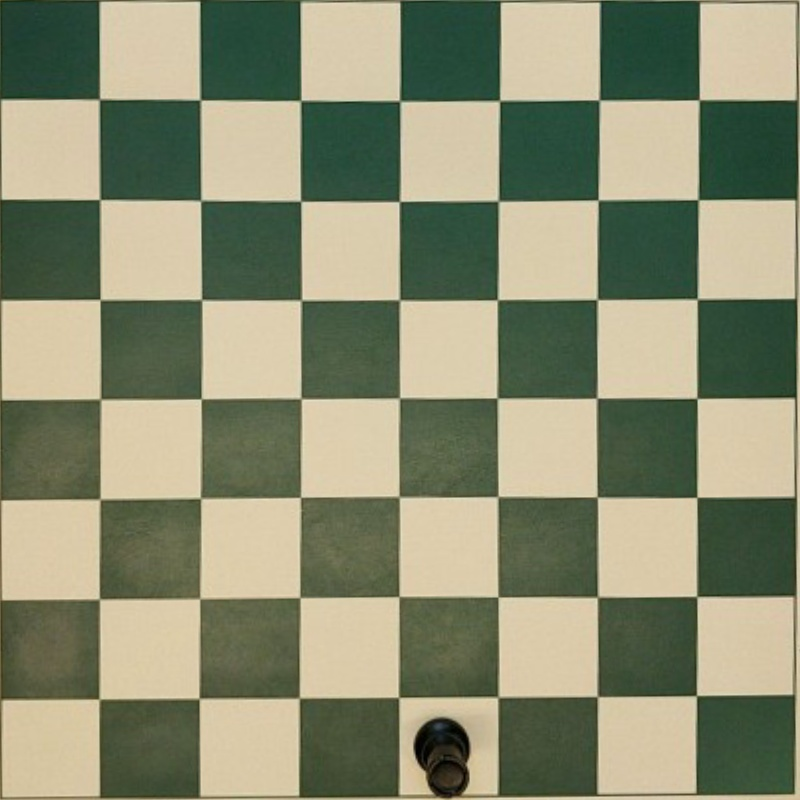black-rook: (412, 717, 473, 797)
